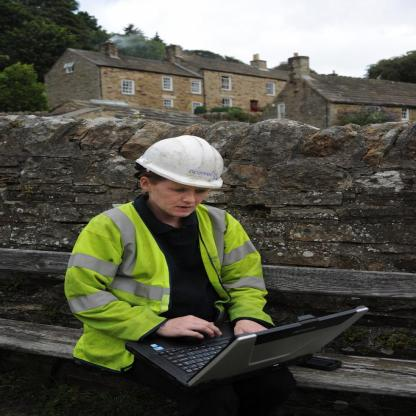board: (115, 306, 324, 398)
